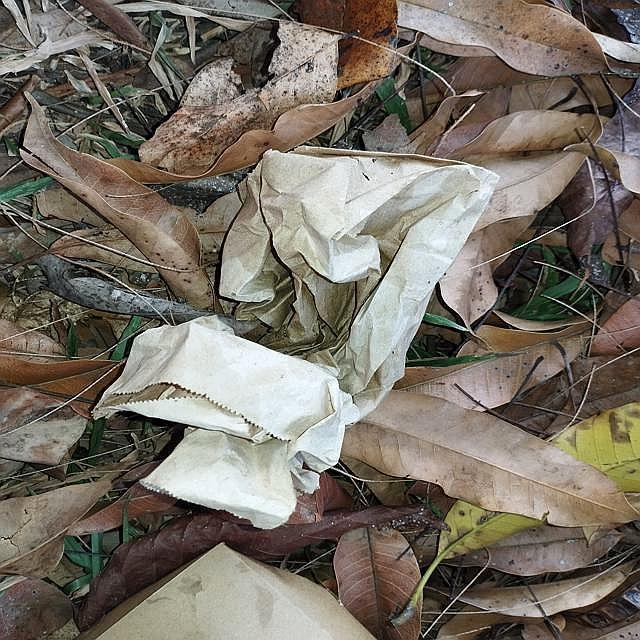Biodegradable: (58, 134, 506, 562), (94, 545, 374, 640)
